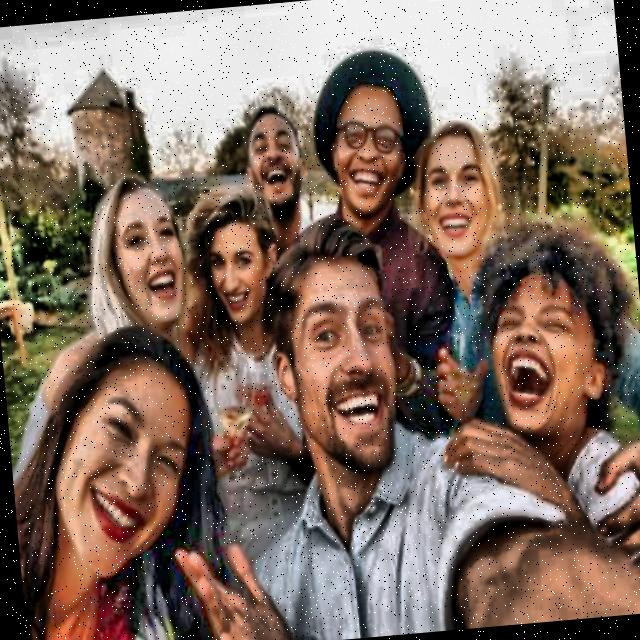happy: (2, 332, 230, 640), (461, 210, 640, 464), (261, 202, 412, 499), (309, 42, 448, 233), (71, 161, 207, 355), (182, 167, 284, 352), (405, 109, 518, 264), (233, 75, 318, 228)
